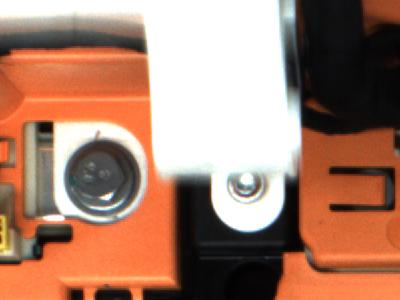nut_b: (60, 142, 146, 218)
